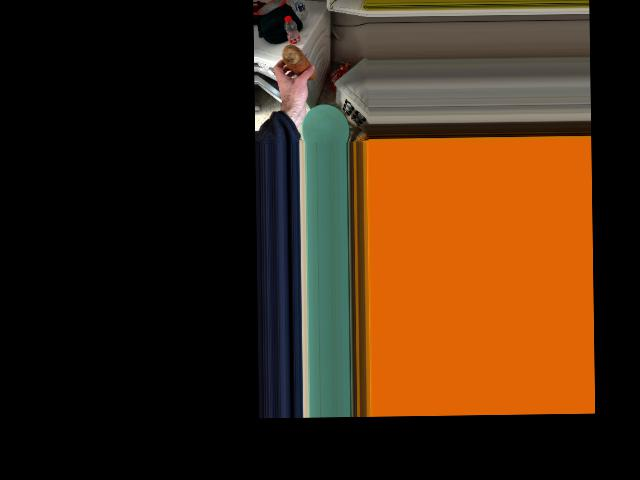sweet_potato: (284, 44, 317, 79)
